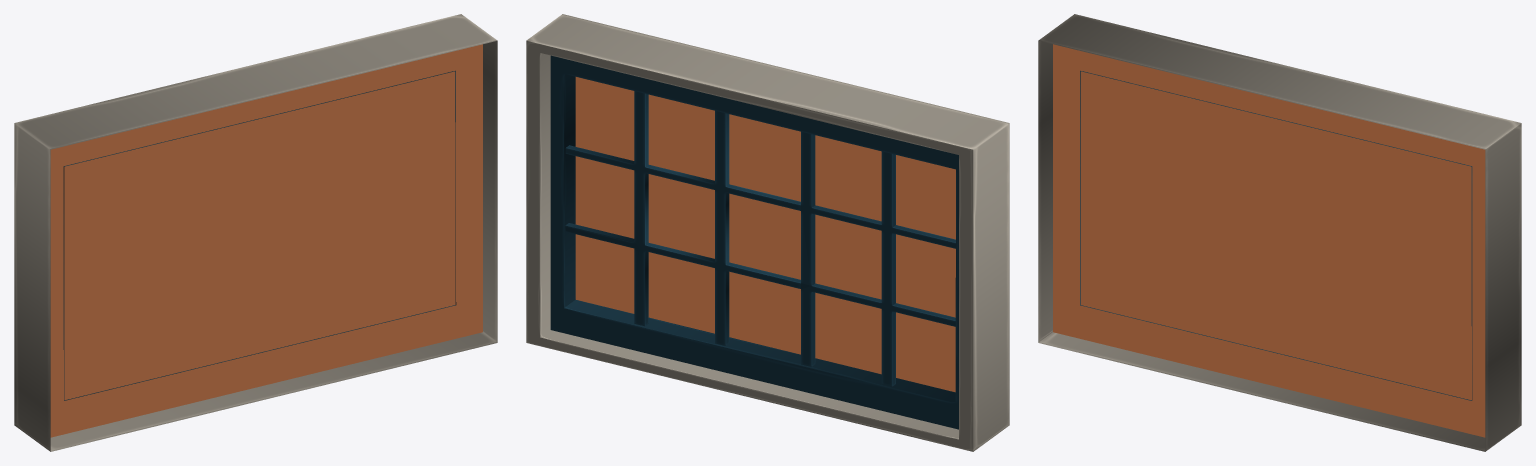
File: Window_Big_Blue.fbx
The picture shows the model from 3 angles, left to right: view 1: azimuth 30°, elevation 25°; view 2: azimuth 150°, elevation 25°; view 3: azimuth 330°, elevation 25°; orthographic projection.
Visible parts, largest first — view 1: Window_Big_Blue; view 2: Window_Big_Blue; view 3: Window_Big_Blue.
Part boxes in pixels (<box>): Window_Big_Blue: <box>14,14,497,451</box>; Window_Big_Blue: <box>526,14,1009,451</box>; Window_Big_Blue: <box>1038,14,1521,451</box>.
Size of the model in its own units: 182 by 118 by 25.77.
2 materials, 1 textured.
